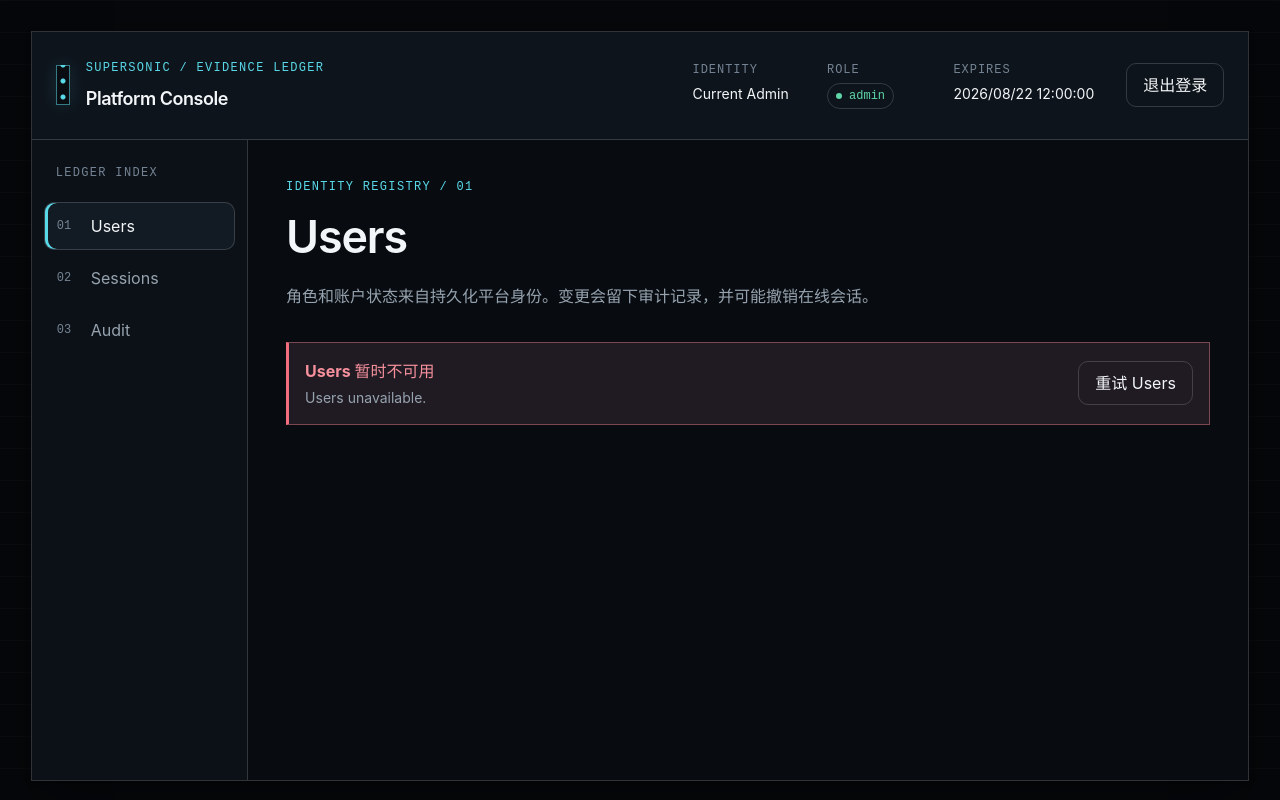
Test: PlatformConsole › shows a Users panel error and retries only the users loader
Expected: the message shows "Users unavailable.", [305, 389, 426, 406]
Click the button "重试 Users" at {"x": 1136, "y": 383}, box [1078, 361, 1193, 405]
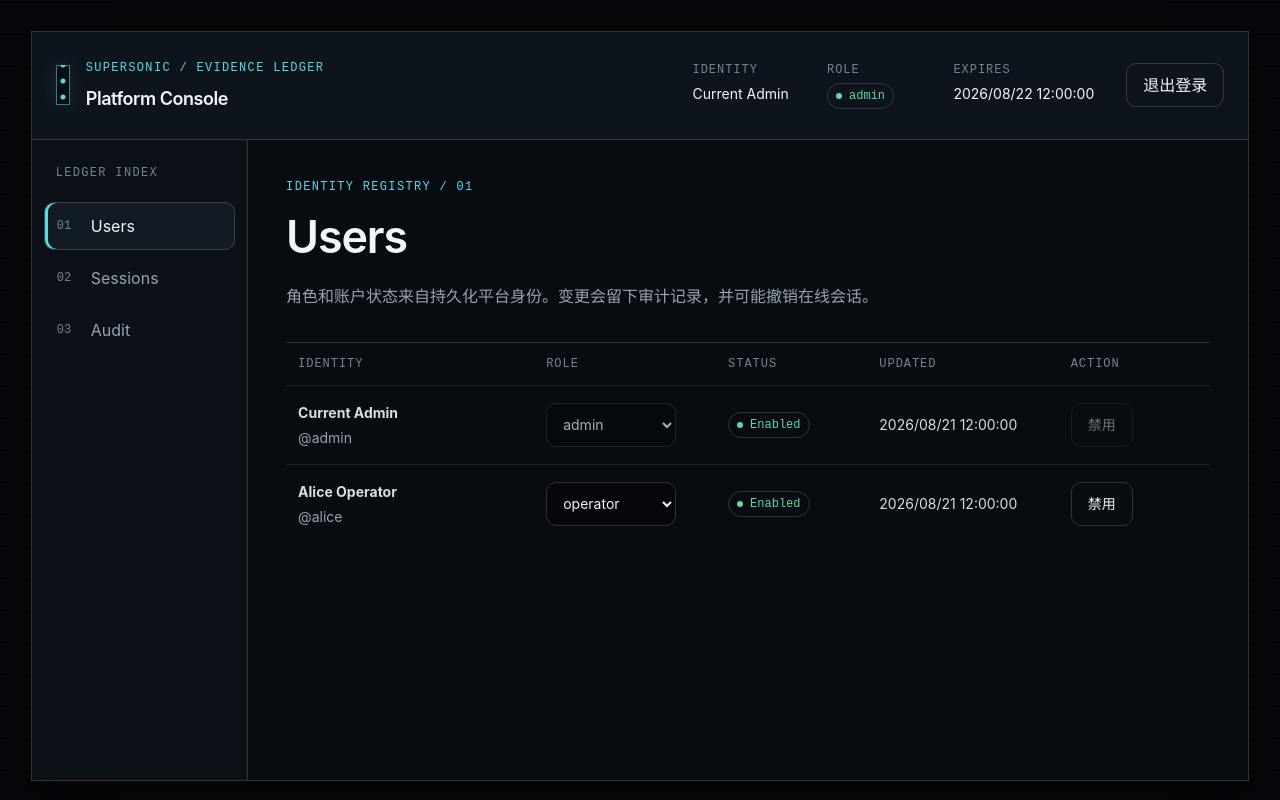
Now the text "Alice Operator" is shown, box [298, 483, 397, 500]
